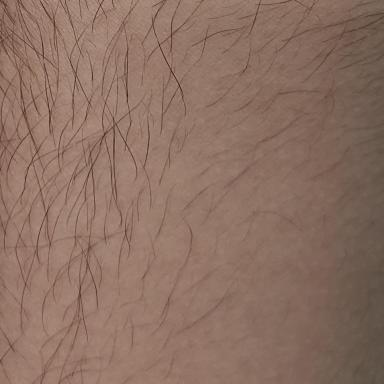normal skin: (2, 0, 382, 384)
